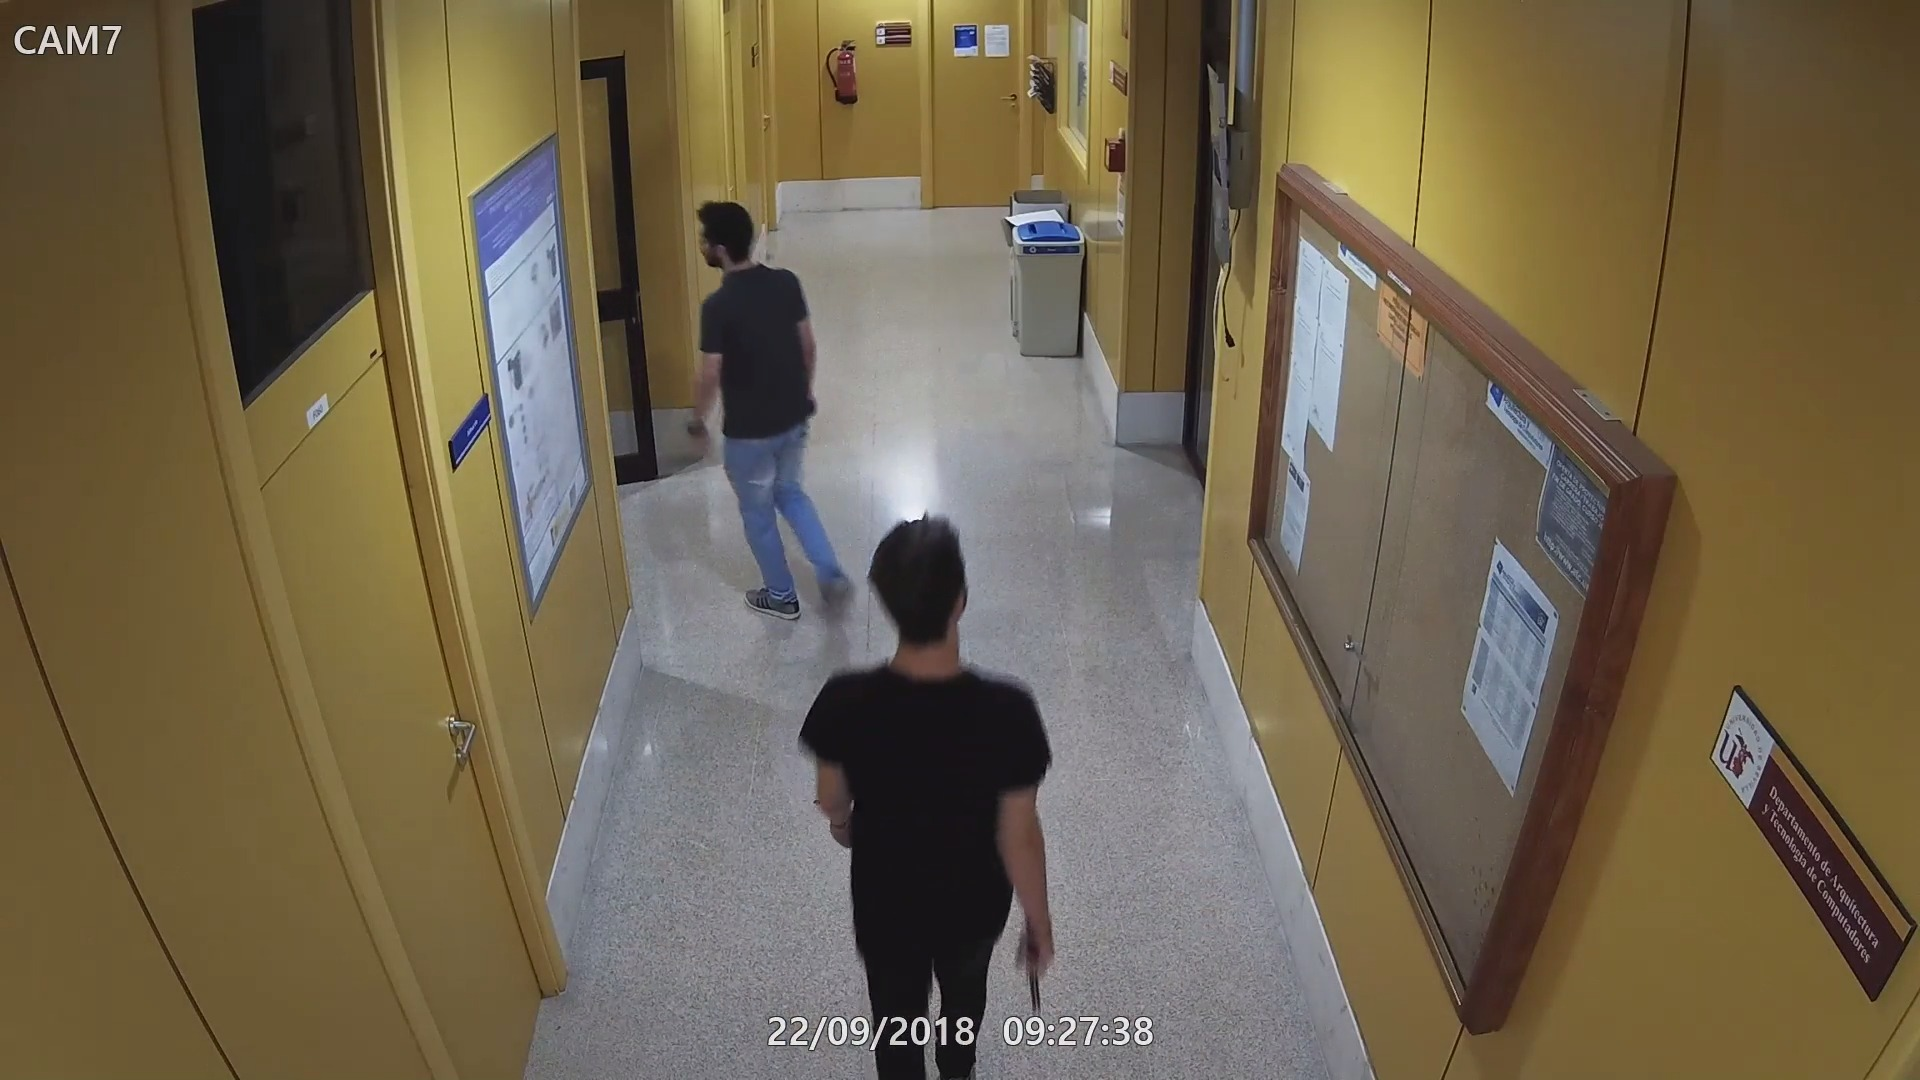Handgun: (1010, 926, 1064, 1013)
